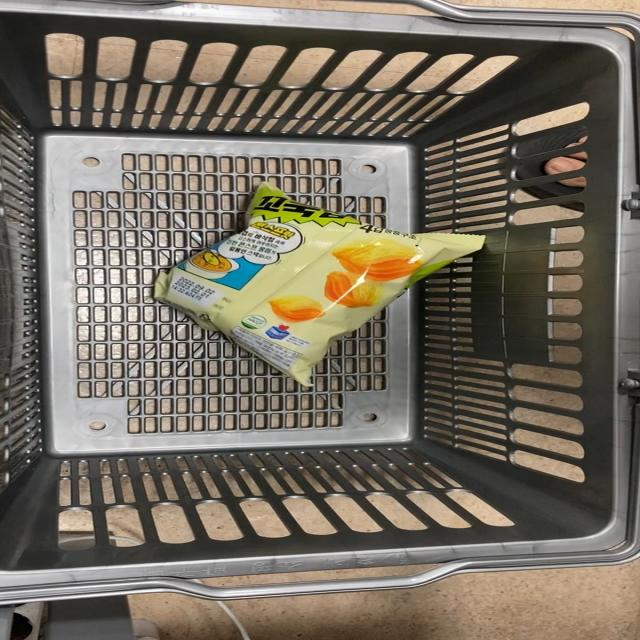ggobukchip: (153, 175, 502, 393)
